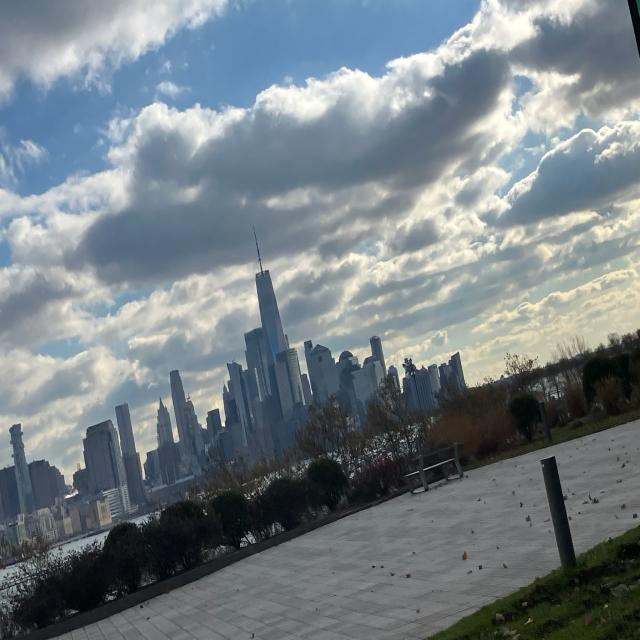WTC: (247, 223, 288, 397)
